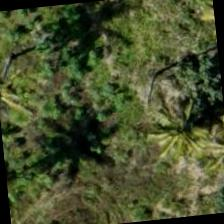Kelapa_Sawit: (126, 84, 223, 184)
